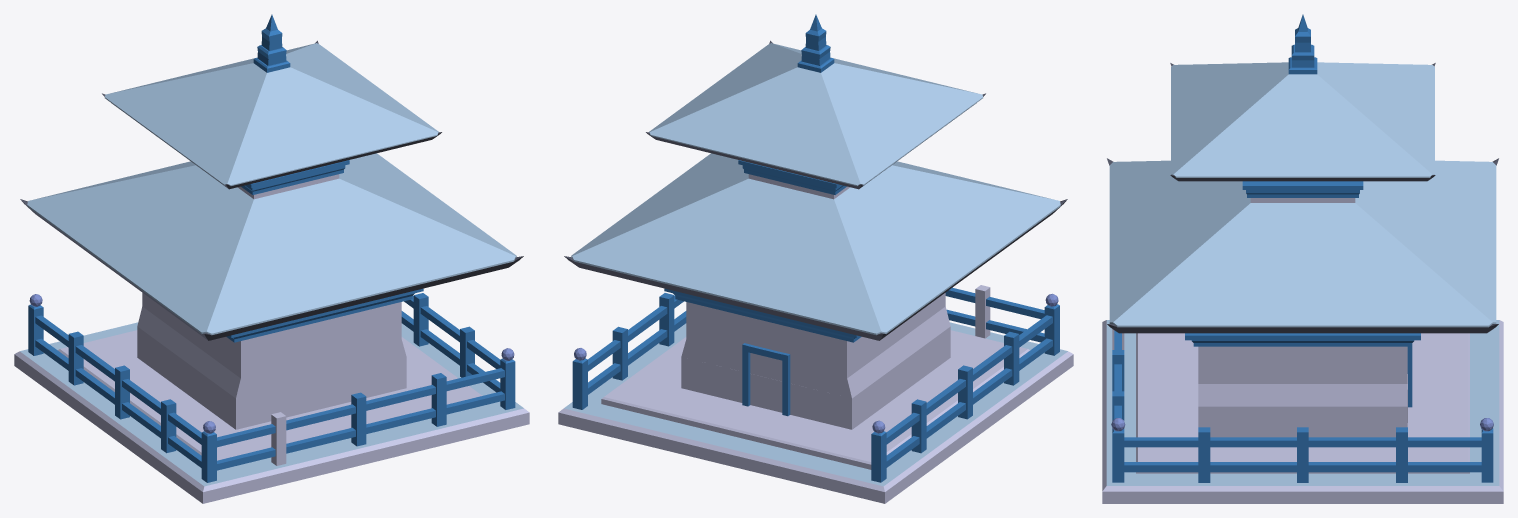
File: Temple 2.fbx
The picture shows the model from 3 angles, left to right: view 1: azimuth 30°, elevation 25°; view 2: azimuth 150°, elevation 25°; view 3: azimuth 270°, elevation 25°; orthographic projection. The views are drawn at different scales.
Parts seen in each view (by area): view 1: Temple; view 2: Temple; view 3: Temple.
Part boxes in pixels (x1,y1,x2,y2): Temple: (14, 14, 529, 503); Temple: (558, 14, 1073, 503); Temple: (1102, 14, 1503, 503).
Bounding box in the file's own units: 595 × 663 × 595.
